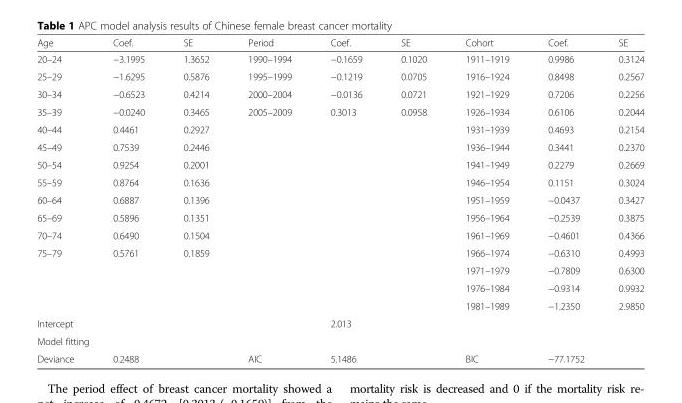table: (36, 36, 643, 364)
table column: (227, 36, 310, 364), (445, 36, 527, 364), (92, 36, 163, 364), (527, 36, 598, 364), (310, 36, 380, 364), (380, 36, 445, 364), (163, 36, 227, 364), (36, 36, 92, 364), (598, 36, 643, 364)
table column header: (36, 36, 643, 50)
table projected row header: (36, 332, 643, 349)
table row: (36, 84, 643, 102), (36, 102, 643, 120), (36, 120, 643, 138), (36, 155, 643, 173), (36, 190, 643, 208), (36, 208, 643, 226), (36, 243, 643, 261), (36, 278, 643, 296), (36, 296, 643, 314), (36, 314, 643, 332), (36, 50, 643, 67), (36, 67, 643, 84), (36, 138, 643, 155), (36, 173, 643, 190), (36, 226, 643, 243), (36, 261, 643, 278), (36, 332, 643, 349), (36, 349, 643, 364), (36, 36, 643, 50)
table spanning cell: (310, 314, 643, 332), (36, 314, 310, 332), (36, 243, 92, 314), (92, 349, 227, 364), (310, 349, 445, 364), (527, 349, 643, 364)
